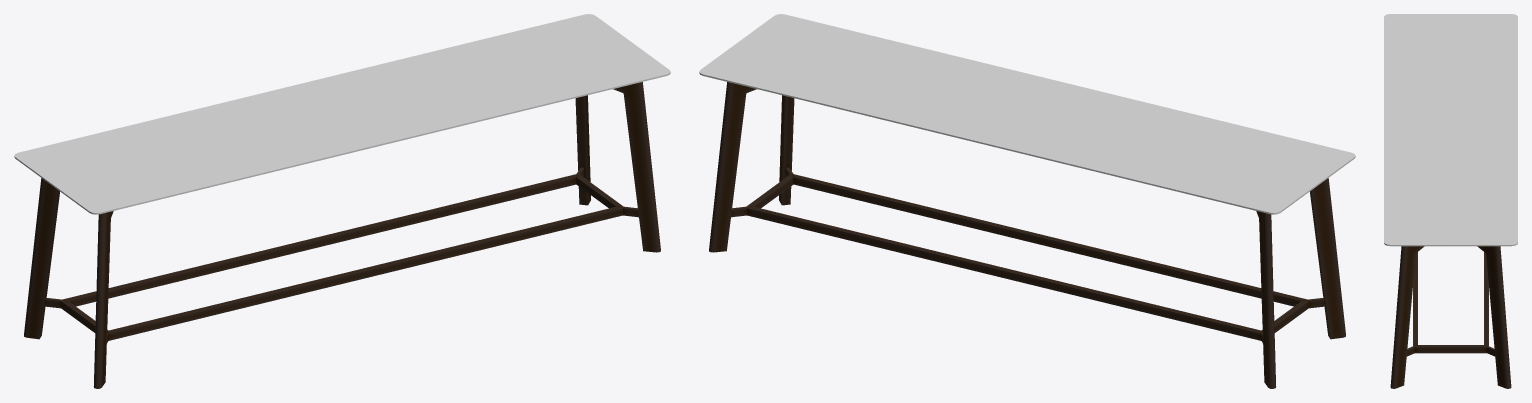
Rendered from DinningTable.fbx.
3 renders of one model, left to right at view 1: azimuth 30°, elevation 25°; view 2: azimuth 150°, elevation 25°; view 3: azimuth 270°, elevation 25°, orthographic. The views are drawn at different scales.
Parts seen in each view (by area): view 1: DiningTable; view 2: DiningTable; view 3: DiningTable.
Boxes of the visible parts, bbox=[...] form: DiningTable: bbox=[14, 14, 670, 388]; DiningTable: bbox=[699, 14, 1355, 388]; DiningTable: bbox=[1384, 14, 1517, 388].
Size of the model in its own units: 311 by 92.24 by 76.2.
